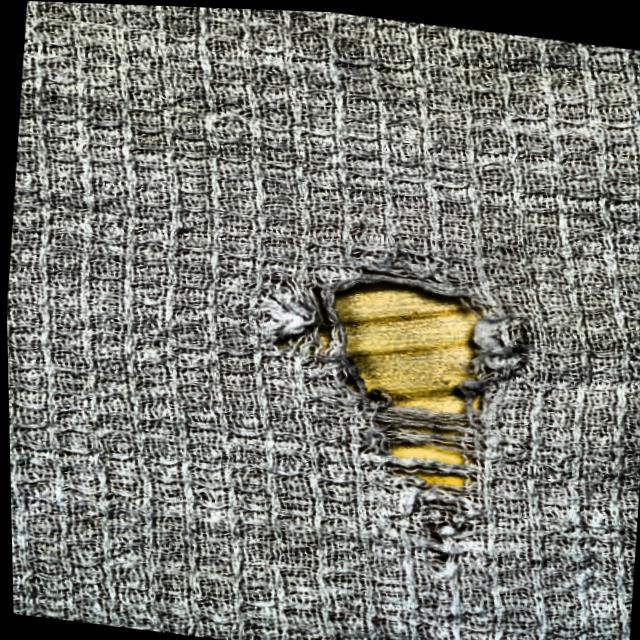Hole: (213, 212, 561, 614)
